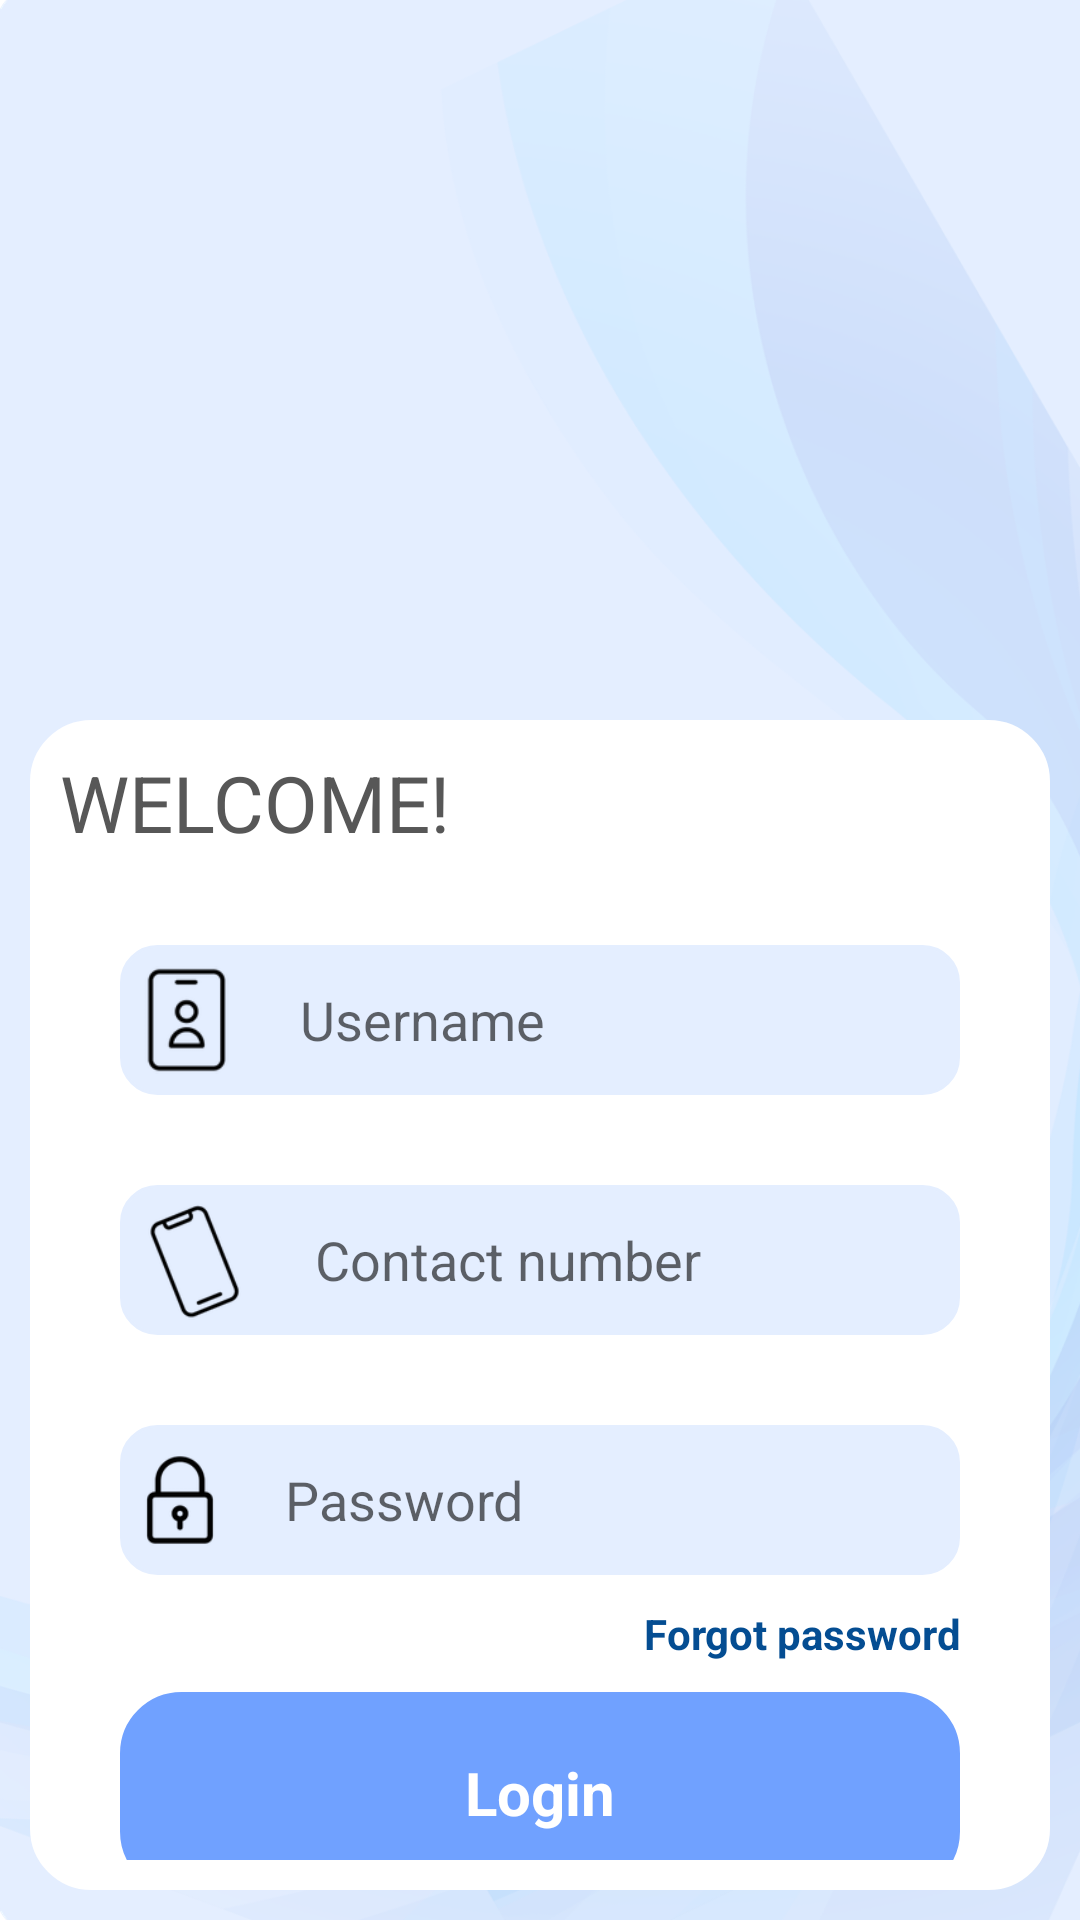

Where icons sit on this 1080 x 1920 app screen, as (x1, y1, x2, y2):
lock: (147, 1456, 213, 1544)
phone: (150, 1205, 239, 1318)
